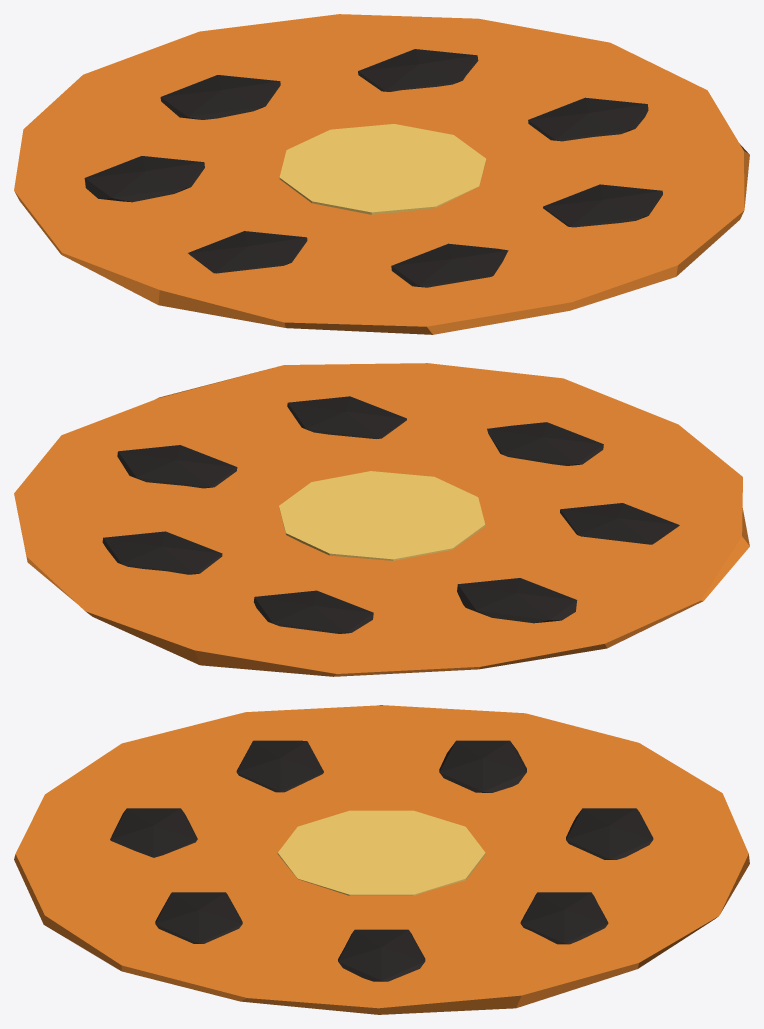
File: MagmaPatch.fbx
3 views of the same model, one above another, from view 1: azimuth 30°, elevation 25°; view 2: azimuth 150°, elevation 25°; view 3: azimuth 270°, elevation 25° (orthographic).
Visible parts, largest first — view 1: MagmaPatch; view 2: MagmaPatch; view 3: MagmaPatch.
Boxes of the visible parts, bbox=[...] form: MagmaPatch: bbox=[14, 14, 749, 334]; MagmaPatch: bbox=[14, 363, 749, 676]; MagmaPatch: bbox=[14, 705, 749, 1014].
Bounding box in the file's own units: 14 × 0.4 × 14.
